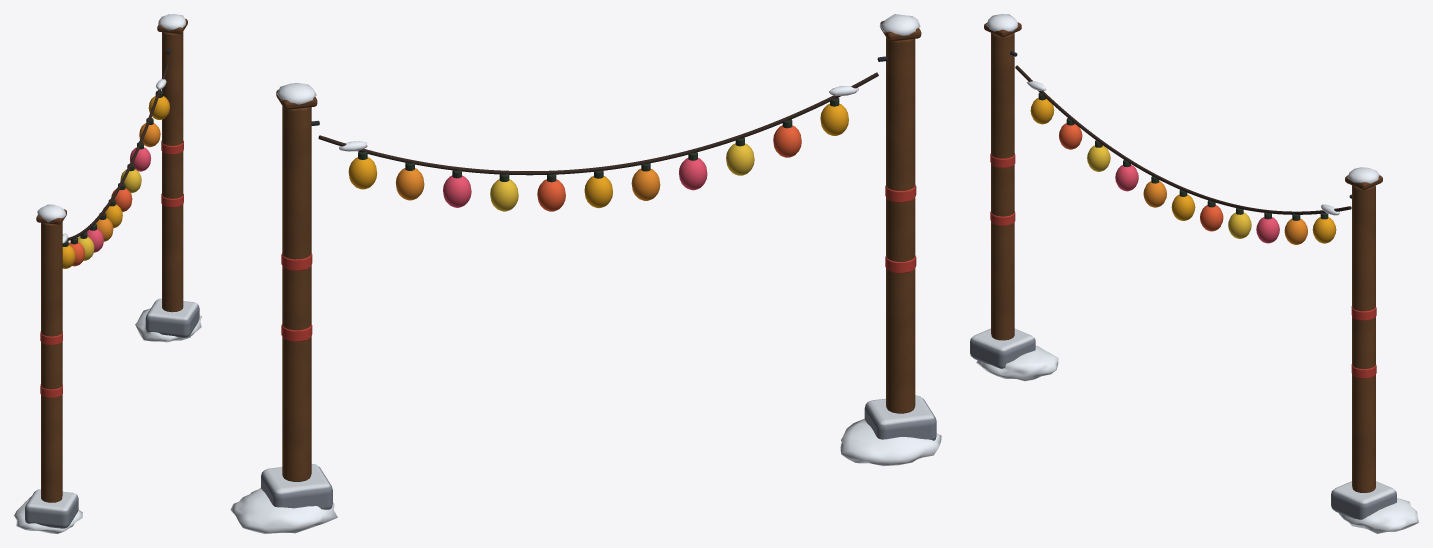
Rendered from lantern_string.glb.
The picture shows the model from 3 angles, left to right: view 1: azimuth 30°, elevation 25°; view 2: azimuth 150°, elevation 25°; view 3: azimuth 270°, elevation 25°; orthographic projection. The views are drawn at different scales.
Parts seen in each view (by area): view 1: base, wire; view 2: base, wire; view 3: base, wire.
Part boxes in pixels (<box>): base: <box>14,14,201,533</box>; wire: <box>67,62,169,240</box>; base: <box>230,14,941,533</box>; wire: <box>318,72,878,175</box>; base: <box>970,14,1418,533</box>; wire: <box>1015,65,1351,214</box>.
Size of the model in its own units: 2.79 by 2.46 by 2.81.
Materials: 2 (1 with a texture image).
